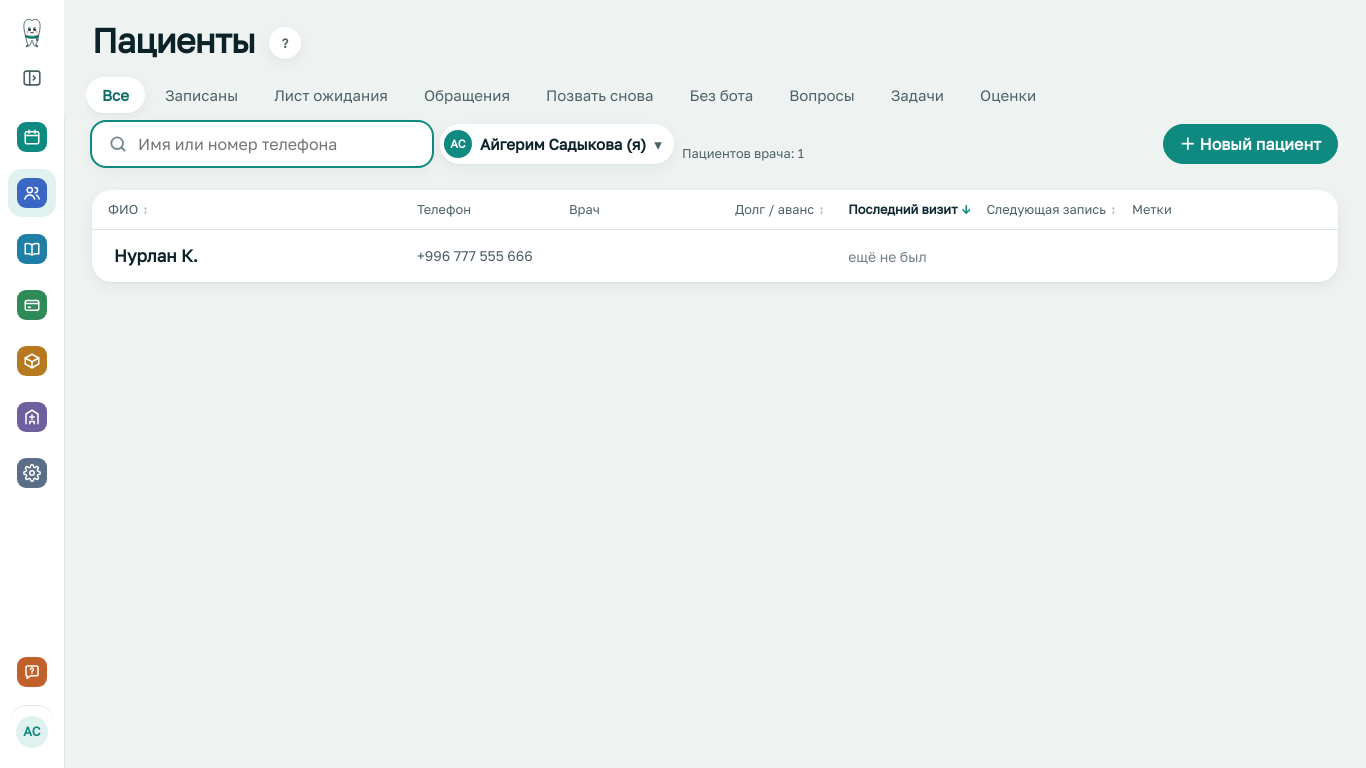
it: P2: номер в шапке — «Связаться ▾», рядом с «＋ Записать» — значок 📞; «Прочее»: лист ожидания с подписью
Click the button "Нурлан К.": (156, 256) top-left (114, 243), bottom-right (198, 269)
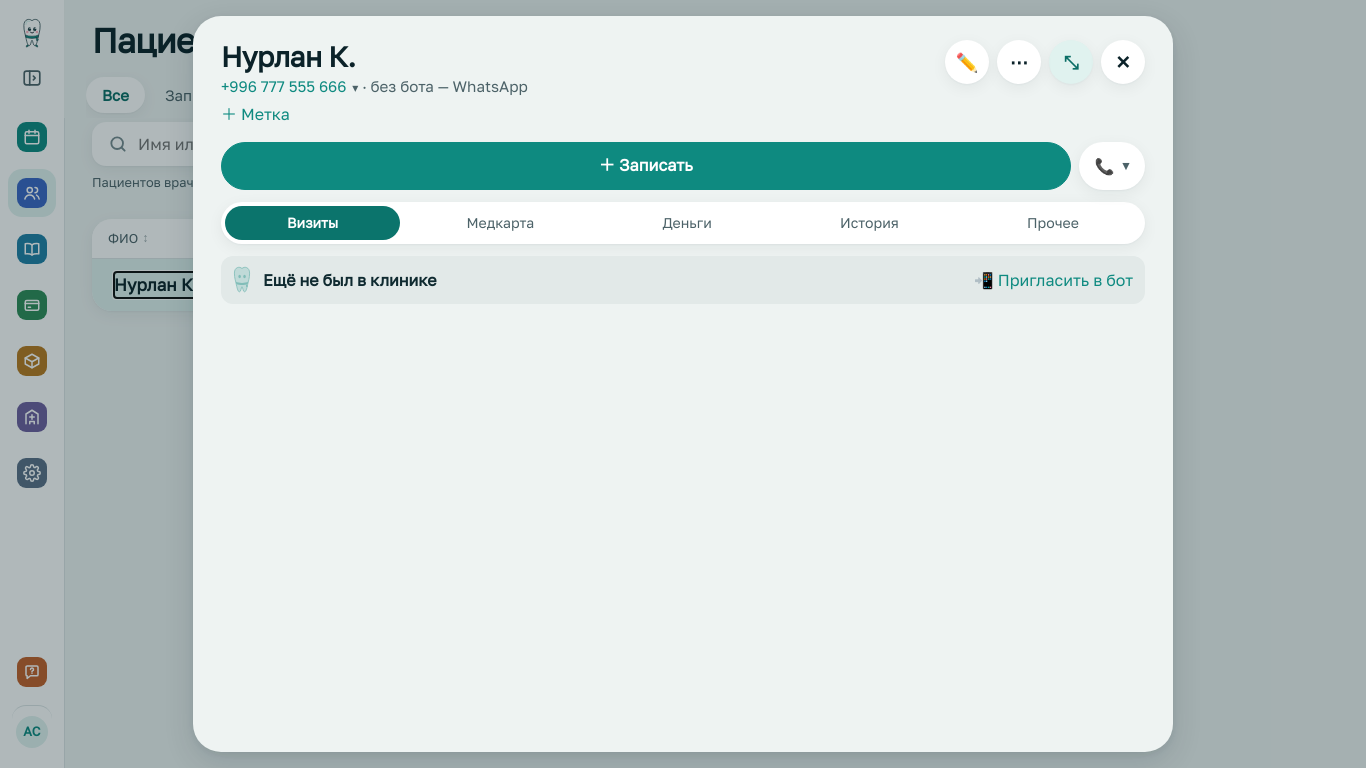
Click the button named "Связаться: +996 777 555 666": (290, 86) top-left (221, 75), bottom-right (358, 97)
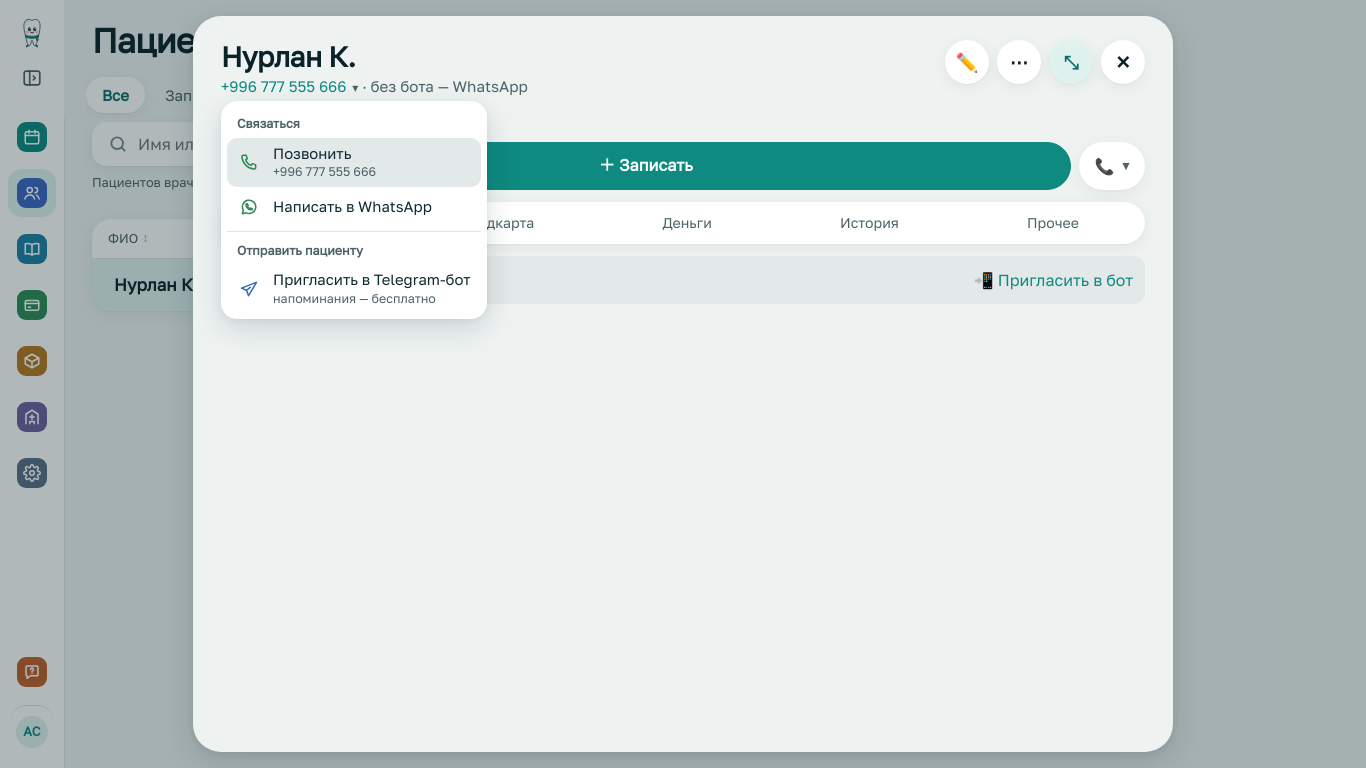
expect the menu item "Позвонить +996 777 555 666" is shown: met, box top-left (227, 138), bottom-right (480, 187)
Press Escape
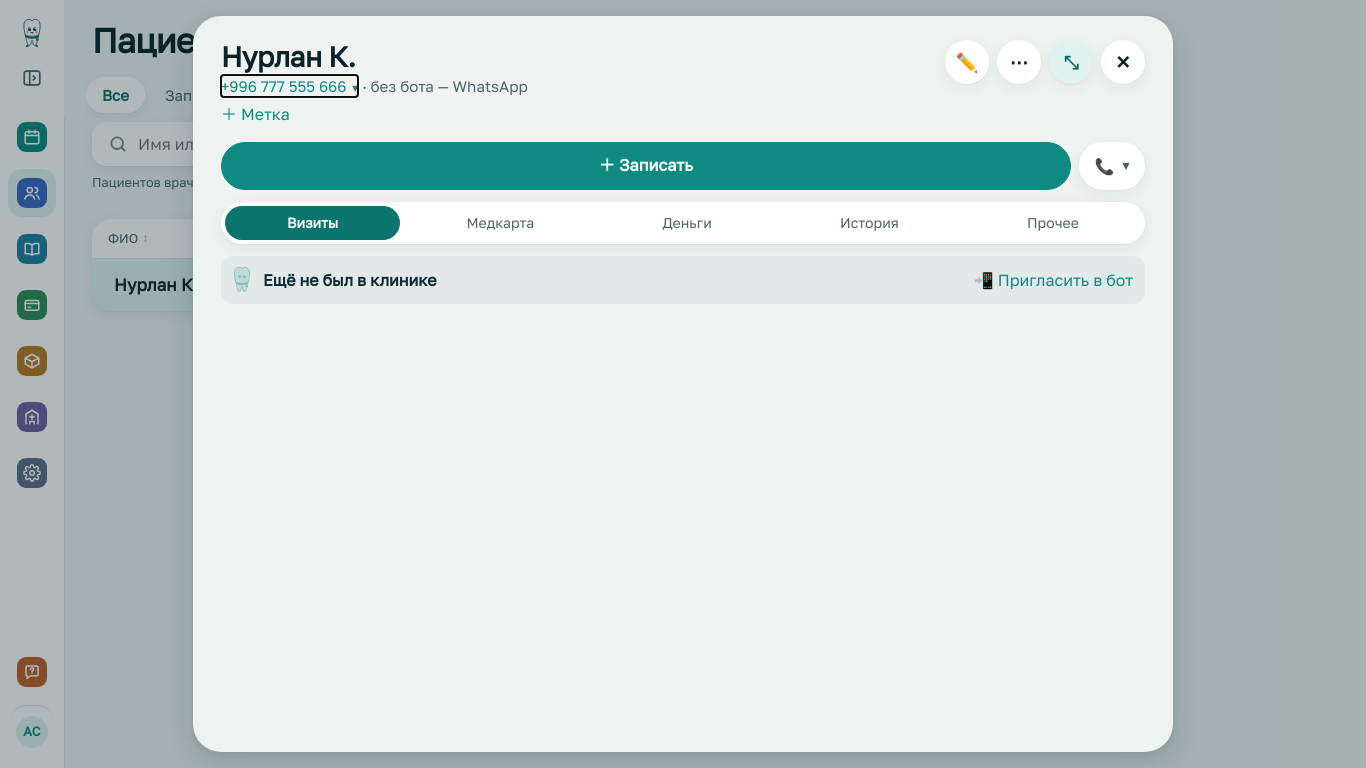
expect the button named "Связаться" shows "📞": met, box top-left (1079, 142), bottom-right (1145, 190)
Click the tab "Прочее": (1053, 223) top-left (965, 206), bottom-right (1141, 240)
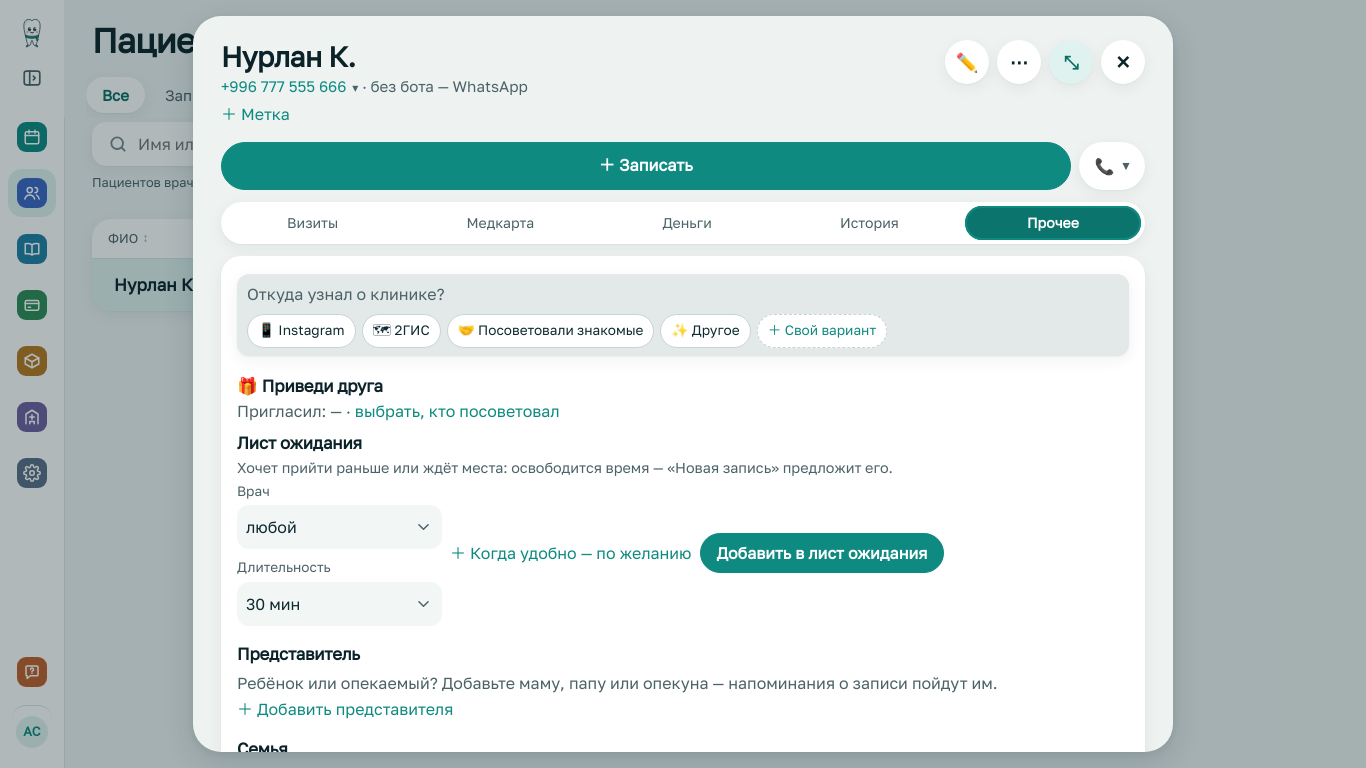
expect the heading "Лист ожидания" is shown: met, box top-left (237, 433), bottom-right (362, 453)
expect the element "Лист ожидания" shows "освободится время": met, box top-left (237, 459), bottom-right (893, 476)
